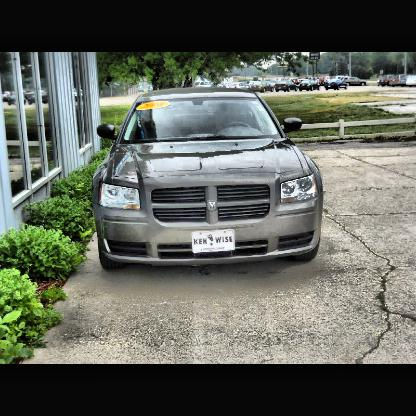Dodge Magnum Wagon 2008: (101, 86, 322, 269)
